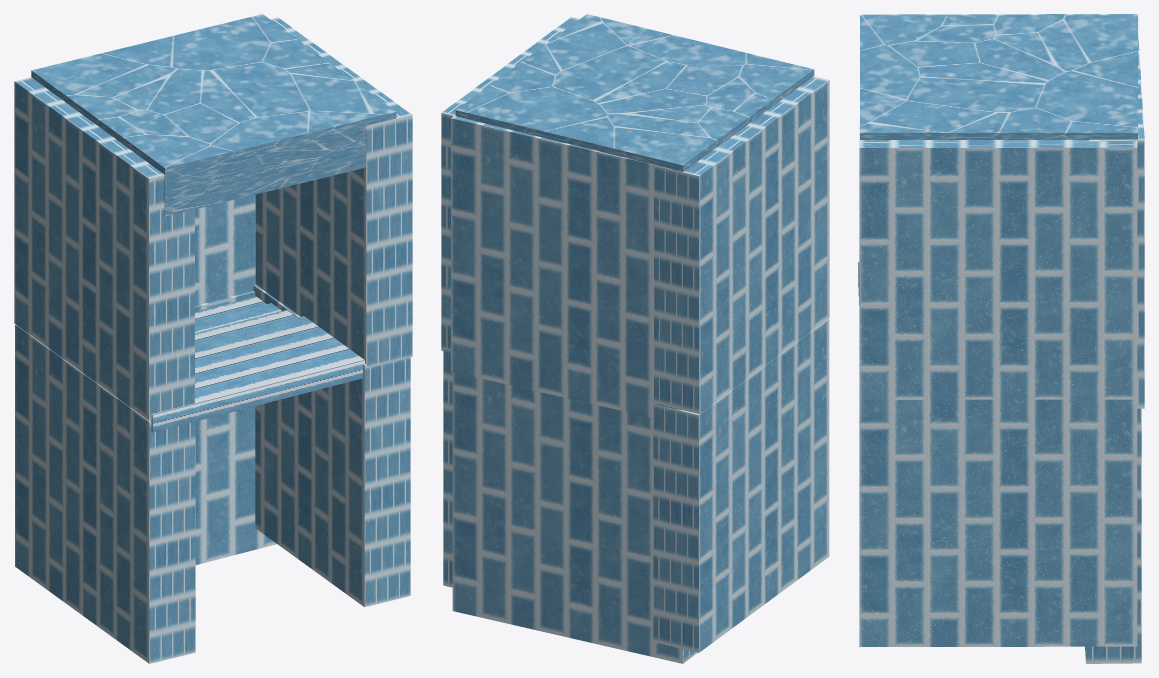
The model's file is Stairs.gltf.
3 views of the same model, side by side, from view 1: azimuth 30°, elevation 25°; view 2: azimuth 150°, elevation 25°; view 3: azimuth 270°, elevation 25° (orthographic). The views are drawn at different scales.
Parts seen in each view (by area): view 1: 立方体.001, 立方体.005, 立方体, 立方体.004, 立方体.002, pedestal, 立方体.007, 立方体.003; view 2: 立方体.003, 立方体.007, 立方体.001, 立方体.005, 立方体, 立方体.002, 立方体.004; view 3: 立方体.002, 立方体.004, 立方体, 立方体.003, 立方体.007, 立方体.001.
Boxes of the visible parts, x1=… form: 立方体.001: x1=14, y1=77, x2=194, y2=420; 立方体.005: x1=15, y1=324, x2=195, y2=663; 立方体: x1=31, y1=14, x2=396, y2=216; 立方体.004: x1=253, y1=284, x2=410, y2=607; 立方体.002: x1=255, y1=17, x2=412, y2=368; pedestal: x1=150, y1=296, x2=364, y2=432; 立方体.007: x1=195, y1=291, x2=276, y2=564; 立方体.003: x1=195, y1=194, x2=255, y2=305; 立方体.003: x1=451, y1=115, x2=681, y2=417; 立方体.007: x1=452, y1=372, x2=696, y2=663; 立方体.001: x1=654, y1=76, x2=829, y2=413; 立方体.005: x1=653, y1=319, x2=829, y2=652; 立方体: x1=455, y1=14, x2=814, y2=171; 立方体.002: x1=441, y1=16, x2=579, y2=350; 立方体.004: x1=443, y1=347, x2=452, y2=587; 立方体.002: x1=859, y1=124, x2=1137, y2=399; 立方体.004: x1=859, y1=399, x2=1137, y2=647; 立方体: x1=860, y1=15, x2=1137, y2=139; 立方体.003: x1=1089, y1=32, x2=1144, y2=408; 立方体.007: x1=1085, y1=408, x2=1141, y2=663; 立方体.001: x1=860, y1=14, x2=1138, y2=37.
Bounding box in the file's own units: 11.42 × 21.03 × 10.31.
Materials: 8 (8 with a texture image).
